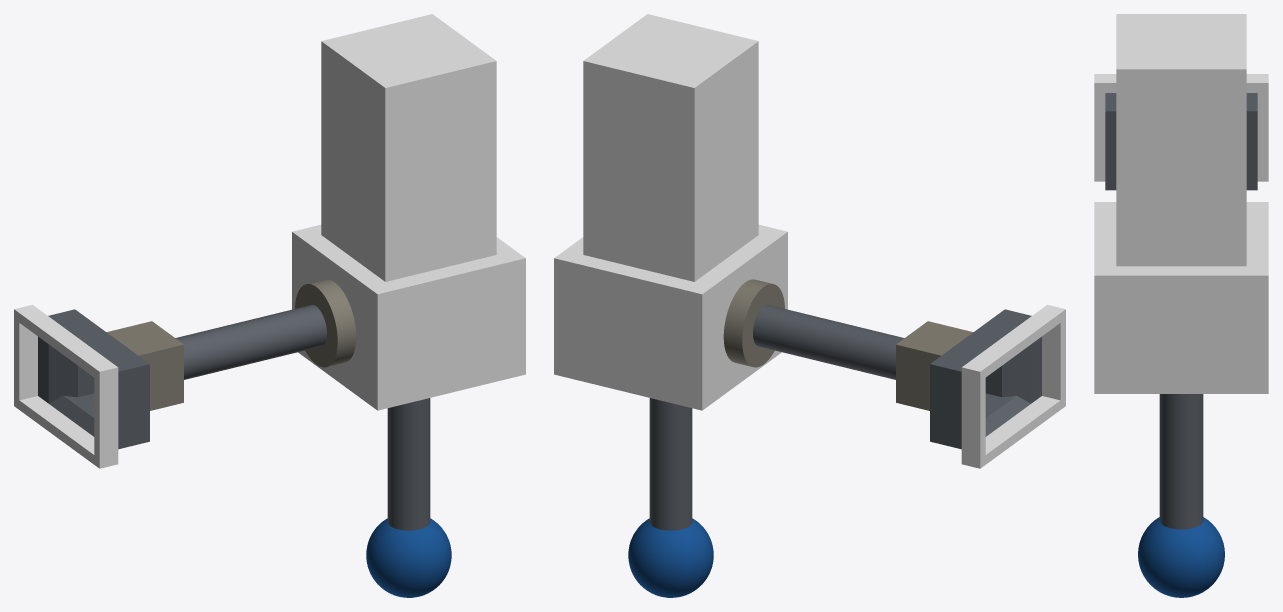
The model's file is end_effector_connector.dae.
3 views of the same model, side by side, from view 1: azimuth 30°, elevation 25°; view 2: azimuth 150°, elevation 25°; view 3: azimuth 270°, elevation 25° (orthographic).
Parts seen in each view (by area): view 1: 625d4ea735c0fd29141c7866 (×4); view 2: 625d4ea735c0fd29141c7866 (×4); view 3: 625d4ea735c0fd29141c7866 (×3).
Boxes of the visible parts, x1=… form: 625d4ea735c0fd29141c7866 (×4): x1=14, y1=14, x2=525, y2=597; 625d4ea735c0fd29141c7866 (×4): x1=554, y1=14, x2=1065, y2=597; 625d4ea735c0fd29141c7866 (×3): x1=1094, y1=14, x2=1268, y2=597.
Bounding box in the file's own units: 0.115 × 0.04 × 0.14.
